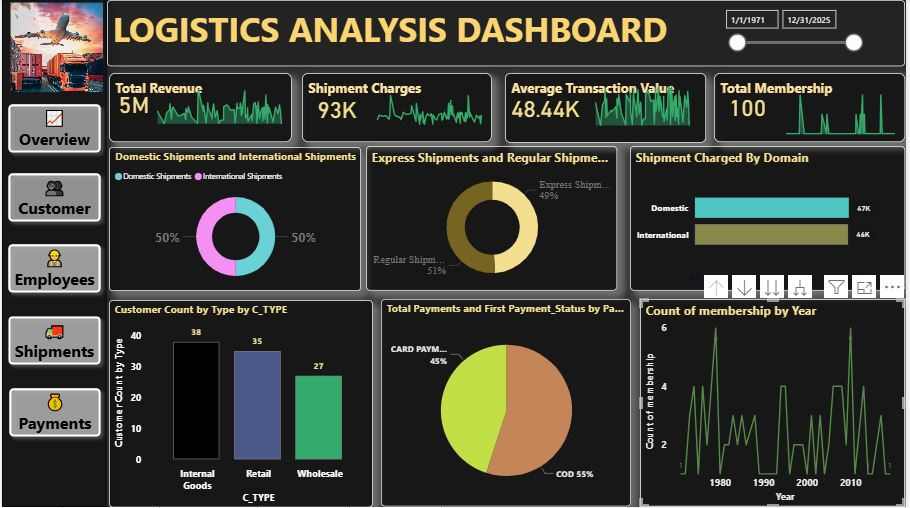

This screenshot's page, from the dashboard's own definition file:
{"tool":"powerbi","page":{"name":"Overview","canvas":[1280,720],"ordinal":0},"visuals":[{"type":"textbox","box":[0,0,148.3,720],"z":0},{"type":"textbox","box":[148.8,1.5,1131.2,93.8],"z":1000},{"type":"image","box":[7.2,0,141.1,136.8],"z":2000},{"type":"donutChart","fields":{"Y":["Status.Domestic Shipments","Status.International Shipments"]},"box":[151.2,210.2,357.1,204.5],"z":3000},{"type":"donutChart","fields":{"Y":["Status.Express Shipments","Status.Regular Shipments"]},"box":[516.5,208.4,355.7,205.4],"z":4000},{"type":"barChart","title":"Shipment Charged By Domain","fields":{"Y":["Sum(Shipment_Details.SH_CHARGES)"],"Category":["Shipment_Details.SH_DOMAIN"]},"box":[890,208.4,390,205.4],"z":5000},{"type":"clusteredColumnChart","fields":{"Category":["Customer (1).C_TYPE"],"Y":["Shipment_Details.Customer Count by Type"]},"box":[151.2,426.2,374.4,293.8],"z":6000},{"type":"pieChart","fields":{"Category":["Payment_Details.Payment_Mode"],"Y":["Payment_Details.Total Payments"]},"box":[536.6,425.5,353.8,293.9],"z":7000},{"type":"lineChart","fields":{"Category":["Membership.Start_date.Variation.Date Hierarchy.Year","Membership.Start_date.Variation.Date Hierarchy.Month"],"Y":["employee_manages_shipment.Count of membership"]},"box":[904,425.5,376,293.9],"z":8000},{"type":"actionButton","box":[0,238.1,148.8,86.3],"z":9000},{"type":"actionButton","box":[0,339.3,148.8,86.3],"z":10000},{"type":"actionButton","box":[0,440.6,148.8,86.3],"z":11000},{"type":"actionButton","box":[1.5,543.3,147.3,86.3],"z":12000},{"type":"slicer","fields":{"Values":["Calendar.Date"]},"box":[1013.8,5.8,214.6,82.1],"z":13000},{"type":"actionButton","box":[0,139.9,148.8,86.3],"z":14000},{"type":"textbox","box":[151.7,104.9,259.4,97.8],"z":15000},{"type":"card","fields":{"Values":["Status.Total Revenue"]},"box":[138.4,111.6,95.3,71.4],"z":16000},{"type":"textbox","box":[425.2,104.9,269.3,97.8],"z":17000},{"type":"textbox","box":[712.9,104.9,284.9,99.2],"z":20000},{"type":"card","fields":{"Values":["Payment_Details.Avg Transaction Value"]},"box":[714.2,122.4,112.3,63.4],"z":21000},{"type":"card","fields":{"Values":["Status.Total Shipment Charges"]},"box":[431.7,122.6,85.7,63.8],"z":22000},{"type":"areaChart","fields":{"Category":["Calendar.Date"],"Y":["Payment_Details.Total_Revenue"]},"box":[205.5,100.6,205.5,82.2],"z":23000},{"type":"lineChart","fields":{"Category":["Calendar.Date"],"Y":["Status.Total Shipment Charges"]},"box":[517,115.2,177.1,69.1],"z":24000},{"type":"areaChart","fields":{"Category":["Calendar.Date"],"Y":["Payment_Details.Avg Transaction Value"]},"box":[826.6,109.4,162.7,76.3],"z":25000},{"type":"textbox","box":[1009.1,104.9,270.7,97.8],"z":27000},{"type":"card","fields":{"Values":["Status.Total Memberships"]},"box":[1016.6,97.9,80.6,109.4],"z":28000},{"type":"stackedAreaChart","fields":{"Category":["Calendar.Date"],"Y":["Status.Total Memberships"]},"box":[1097,121.9,182.8,75.1],"z":29000}]}

Visuals, with their boxes in screenshot pixels (x1, y1, x2, y2), scaled from the page's 1280x720 canvas onto the 910x508 screenshot:
textbox: rect(0, 0, 105, 507)
textbox: rect(106, 1, 909, 67)
image: rect(5, 0, 105, 97)
donutChart - Status.Domestic Shipments x Status.International Shipments: rect(107, 148, 361, 293)
donutChart - Status.Express Shipments x Status.Regular Shipments: rect(367, 147, 620, 292)
"Shipment Charged By Domain" barChart: rect(633, 147, 909, 292)
clusteredColumnChart - Customer (1).C_TYPE x Shipment_Details.Customer Count by Type: rect(107, 301, 374, 507)
pieChart - Payment_Details.Payment_Mode x Payment_Details.Total Payments: rect(381, 300, 633, 507)
lineChart - Membership.Start_date.Variation.Date Hierarchy.Year x Membership.Start_date.Variation.Date Hierarchy.Month: rect(643, 300, 909, 507)
actionButton: rect(0, 168, 106, 229)
actionButton: rect(0, 239, 106, 300)
actionButton: rect(0, 311, 106, 372)
actionButton: rect(1, 383, 106, 444)
slicer - Calendar.Date: rect(721, 4, 873, 62)
actionButton: rect(0, 99, 106, 160)
textbox: rect(108, 74, 292, 143)
card - Status.Total Revenue: rect(98, 79, 166, 129)
textbox: rect(302, 74, 494, 143)
textbox: rect(507, 74, 709, 144)
card - Payment_Details.Avg Transaction Value: rect(508, 86, 588, 131)
card - Status.Total Shipment Charges: rect(307, 87, 368, 132)
areaChart - Calendar.Date x Payment_Details.Total_Revenue: rect(146, 71, 292, 129)
lineChart - Calendar.Date x Status.Total Shipment Charges: rect(368, 81, 493, 130)
areaChart - Calendar.Date x Payment_Details.Avg Transaction Value: rect(588, 77, 703, 131)
textbox: rect(717, 74, 909, 143)
card - Status.Total Memberships: rect(723, 69, 780, 146)
stackedAreaChart - Calendar.Date x Status.Total Memberships: rect(780, 86, 909, 139)
